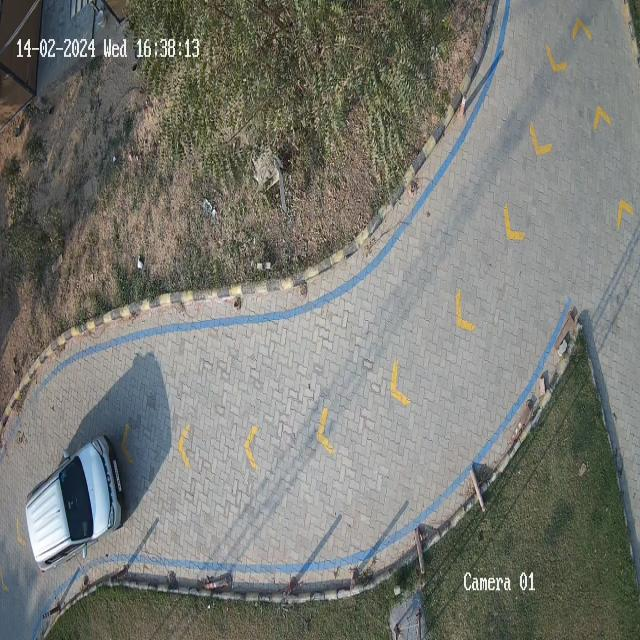car: (26, 433, 127, 574)
